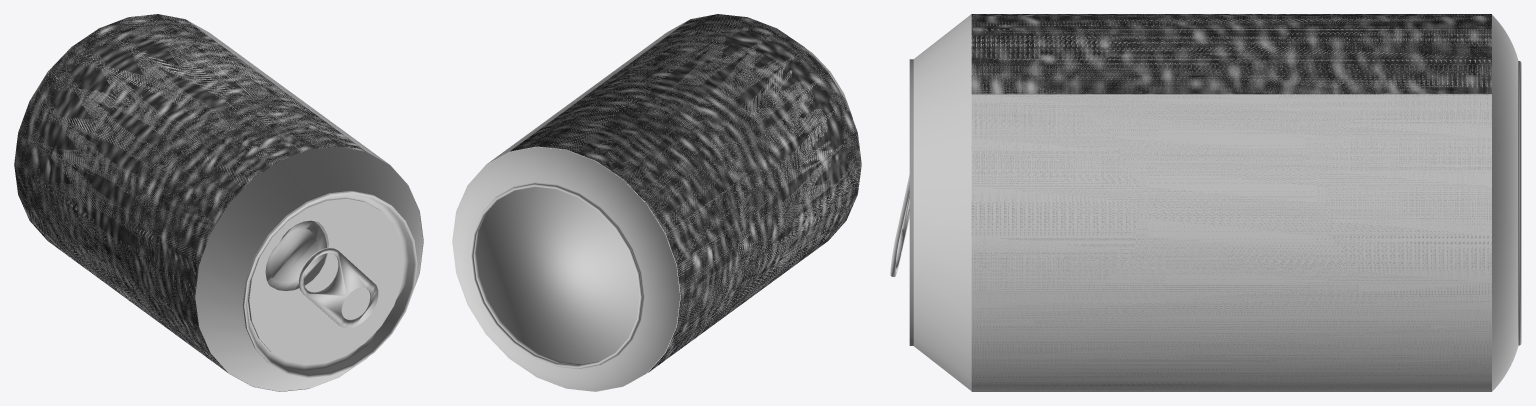
File: model_align.obj
3 views of the same model, side by side, from view 1: azimuth 30°, elevation 25°; view 2: azimuth 150°, elevation 25°; view 3: azimuth 270°, elevation 25° (orthographic). The views are drawn at different scales.
Parts seen in each view (by area): view 1: mesh1_mesh1-geometry, mesh5_mesh5-geometry, mesh9_mesh9-geometry, mesh3_mesh3-geometry; view 2: mesh1_mesh1-geometry, mesh2_mesh2-geometry; view 3: mesh1_mesh1-geometry, mesh5_mesh5-geometry, mesh2_mesh2-geometry, mesh3_mesh3-geometry.
Boxes of the visible parts, x1=… form: mesh1_mesh1-geometry: x1=14, y1=14, x2=423, y2=391; mesh5_mesh5-geometry: x1=195, y1=146, x2=423, y2=391; mesh9_mesh9-geometry: x1=265, y1=220, x2=326, y2=290; mesh3_mesh3-geometry: x1=298, y1=247, x2=378, y2=328; mesh1_mesh1-geometry: x1=469, y1=14, x2=861, y2=391; mesh2_mesh2-geometry: x1=452, y1=146, x2=680, y2=391; mesh1_mesh1-geometry: x1=971, y1=14, x2=1491, y2=391; mesh5_mesh5-geometry: x1=909, y1=14, x2=971, y2=390; mesh2_mesh2-geometry: x1=1492, y1=15, x2=1521, y2=391; mesh3_mesh3-geometry: x1=890, y1=174, x2=909, y2=277.
Bounding box in the file's own units: 0.0614 × 0.0614 × 0.1021.
